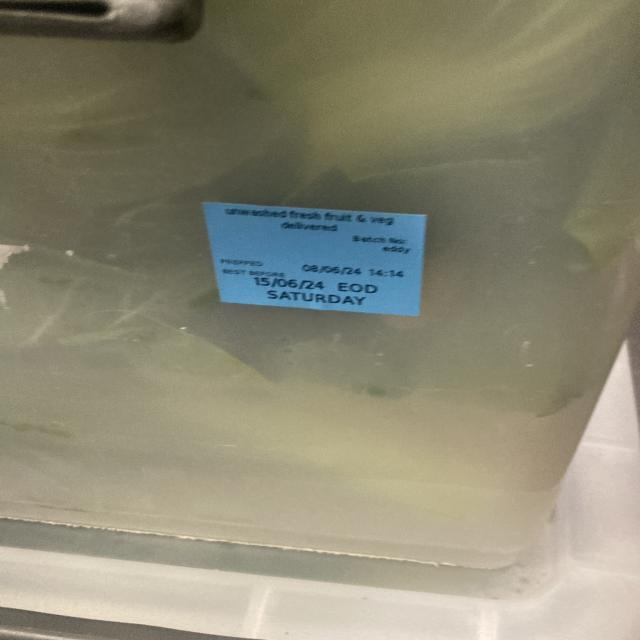product-labels: (196, 201, 426, 315)
